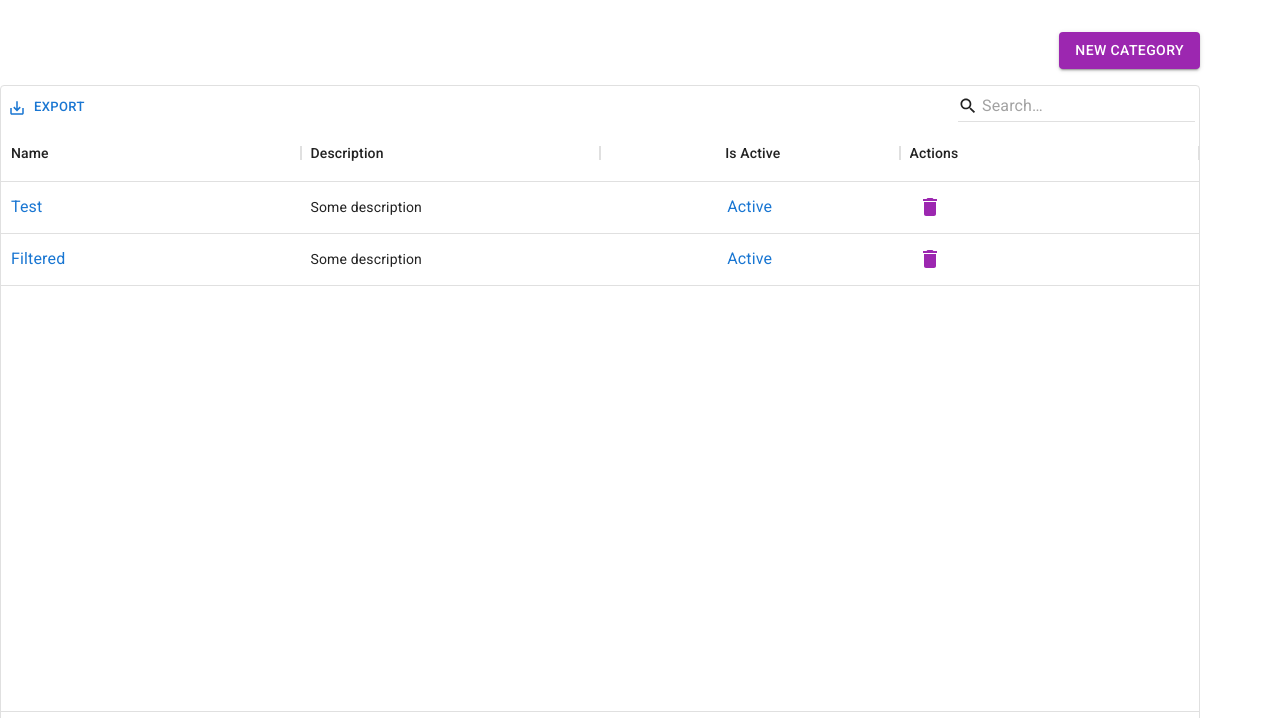
ListCategory test › should handle filter change
Expected: the text "Test" is shown, [11,195,42,219]
In the search field with placeholder "Search…": (1074, 106) [982,90,1165,122], type "Filtered"
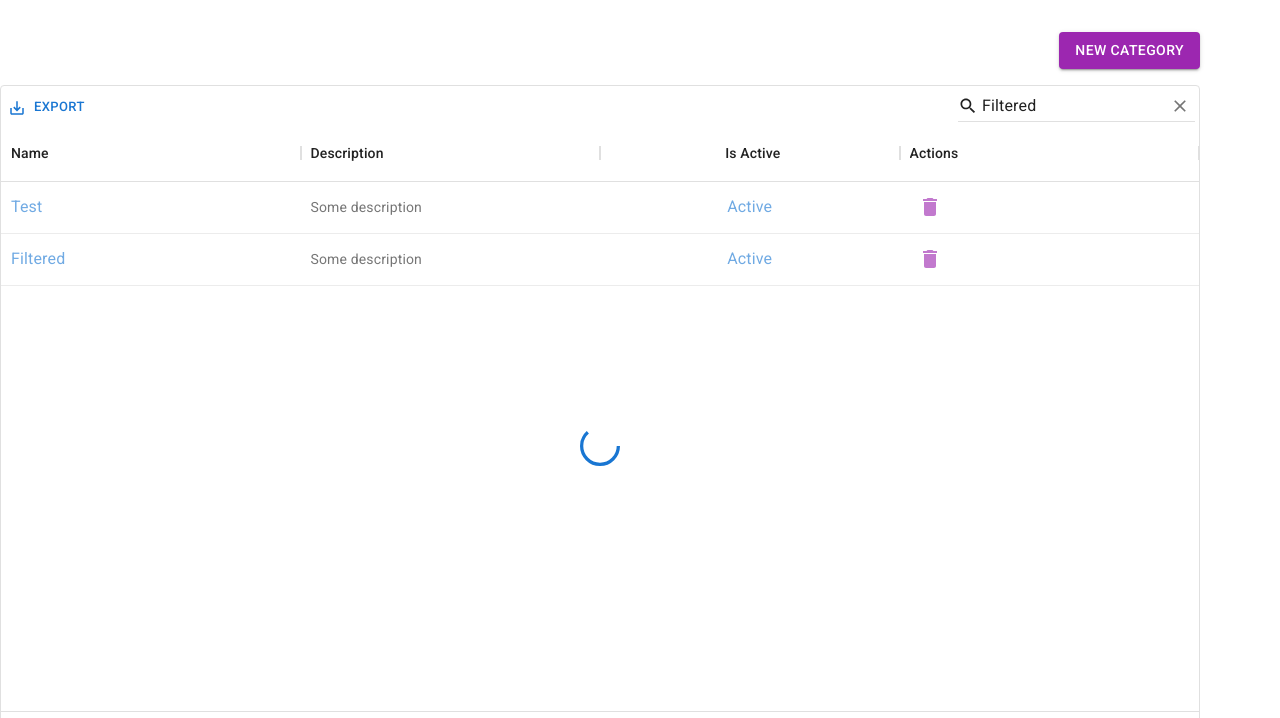
Now the progress indicator is shown, box [580,426,620,466]
